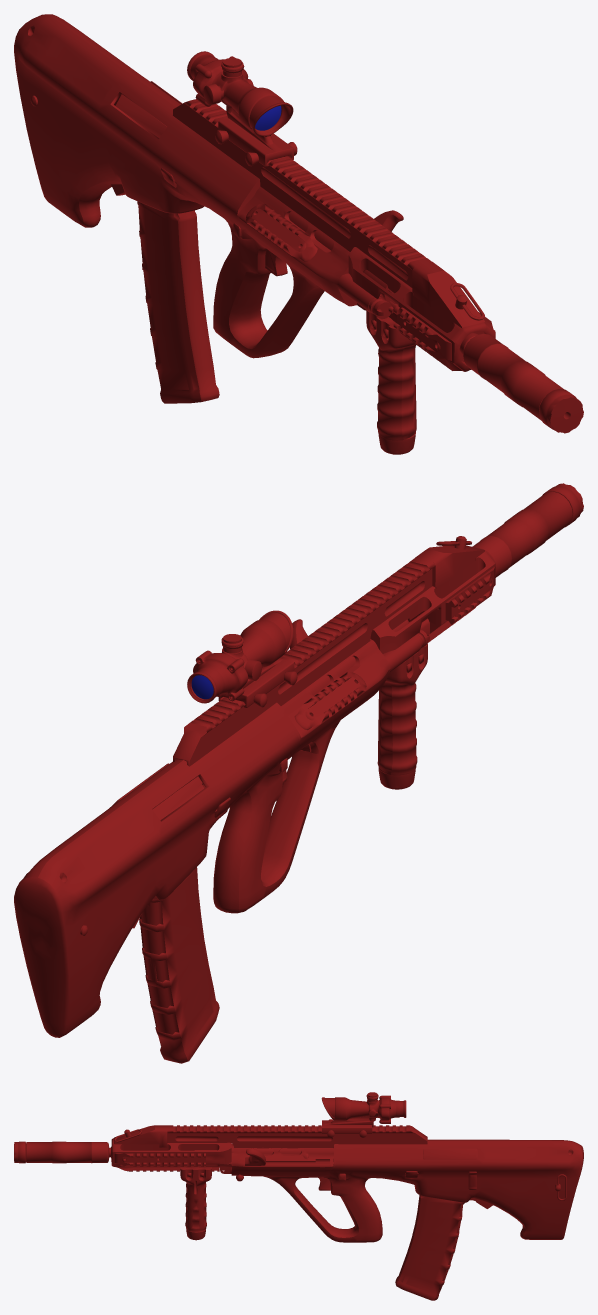
The model's file is aug.fbx.
The picture shows the model from 3 angles, top to bottom: view 1: azimuth 30°, elevation 25°; view 2: azimuth 150°, elevation 25°; view 3: azimuth 270°, elevation 25°; orthographic projection. The views are drawn at different scales.
Parts seen in each view (by area): view 1: Body_1_low, Body_1a_low, Mag_low, Body_5_low, Optic_02_low, Handle_low, Body_4_low, Body_2_low, Body_2a_low, Body_3_low, Optic_03_low; view 2: Body_1_low, Body_1a_low, Mag_low, Body_5_low, Optic_02_low, Handle_low, Body_2_low, Body_4_low, Body_2a_low, Body_3_low; view 3: Body_1_low, Body_1a_low, Mag_low, Optic_02_low, Body_5_low, Body_3_low, Body_2_low, Body_4_low, Handle_low, Body_2a_low, Body_3a_low.
Part boxes in pixels (bbox=[...]): Body_1_low: bbox=[14, 14, 327, 358]; Body_1a_low: bbox=[173, 99, 431, 312]; Mag_low: bbox=[137, 201, 219, 403]; Body_5_low: bbox=[115, 94, 583, 433]; Optic_02_low: bbox=[187, 51, 293, 166]; Handle_low: bbox=[366, 310, 416, 454]; Body_4_low: bbox=[246, 203, 493, 370]; Body_2_low: bbox=[348, 247, 495, 371]; Body_2a_low: bbox=[412, 262, 484, 328]; Body_3_low: bbox=[30, 81, 467, 309]; Optic_03_low: bbox=[203, 58, 243, 105]; Body_1_low: bbox=[14, 691, 374, 1037]; Body_1a_low: bbox=[173, 557, 435, 766]; Mag_low: bbox=[139, 867, 219, 1063]; Body_5_low: bbox=[152, 483, 583, 820]; Optic_02_low: bbox=[187, 610, 294, 707]; Handle_low: bbox=[377, 644, 427, 789]; Body_2_low: bbox=[370, 550, 495, 653]; Body_4_low: bbox=[202, 567, 495, 788]; Body_2a_low: bbox=[415, 545, 484, 589]; Body_3_low: bbox=[80, 536, 466, 935]; Body_1_low: bbox=[248, 1139, 583, 1242]; Body_1a_low: bbox=[167, 1125, 427, 1175]; Mag_low: bbox=[395, 1195, 464, 1300]; Optic_02_low: bbox=[321, 1095, 406, 1133]; Body_5_low: bbox=[14, 1141, 301, 1163]; Body_3_low: bbox=[124, 1129, 560, 1208]; Body_2_low: bbox=[111, 1138, 231, 1166]; Body_4_low: bbox=[114, 1153, 329, 1171]; Handle_low: bbox=[180, 1167, 211, 1240]; Body_2a_low: bbox=[114, 1125, 167, 1147]; Body_3a_low: bbox=[109, 1129, 566, 1200].
Size of the model in its own units: 13609 by 53600 by 135565.
